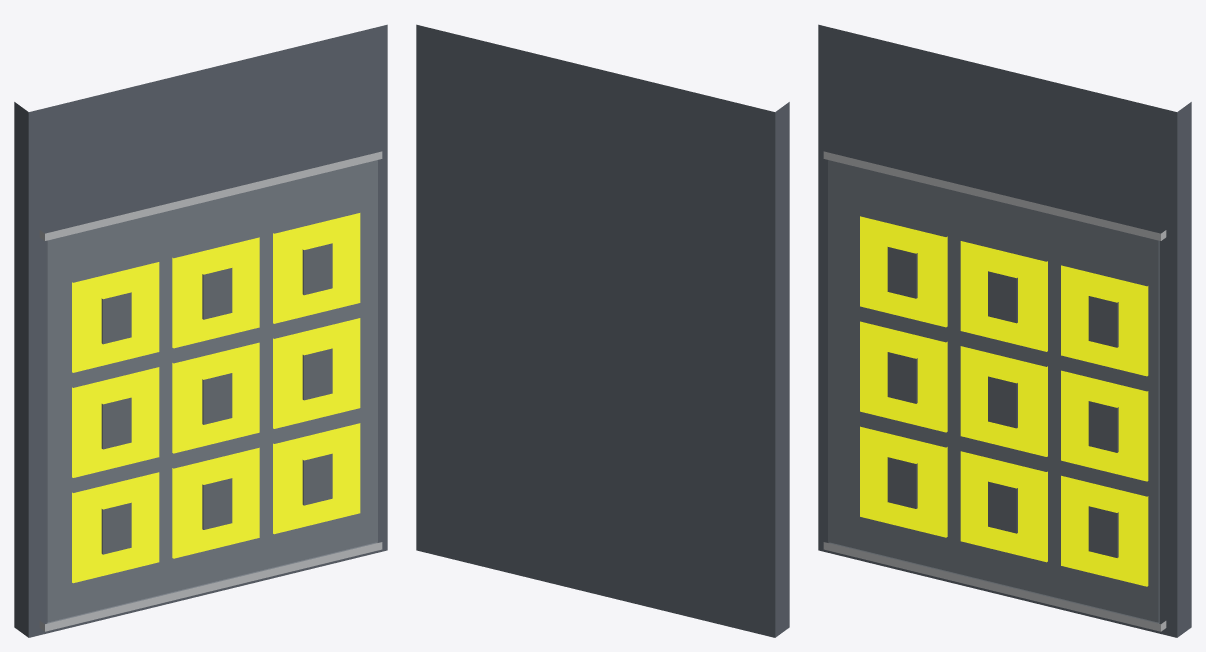
The model's file is ext_notice_board_04.glb.
3 renders of one model, left to right at view 1: azimuth 30°, elevation 25°; view 2: azimuth 150°, elevation 25°; view 3: azimuth 330°, elevation 25°, orthographic.
Parts seen in each view (by area): view 1: Glass_Cover, Board, Tiles, Tile_Glyphs, Bezel; view 2: Board; view 3: Glass_Cover, Board, Tiles, Tile_Glyphs, Bezel.
Part boxes in pixels (x1,y1,x2,y2): Glass_Cover: (46, 160, 377, 623); Board: (14, 24, 387, 637); Tiles: (72, 213, 360, 583); Tile_Glyphs: (101, 243, 332, 554); Bezel: (39, 151, 382, 631); Board: (416, 24, 789, 637); Glass_Cover: (828, 160, 1159, 623); Board: (818, 24, 1191, 637); Tiles: (860, 216, 1148, 586); Tile_Glyphs: (887, 247, 1118, 557); Bezel: (823, 151, 1166, 631).
Size of the model in its own units: 1 by 1.4 by 0.096.
